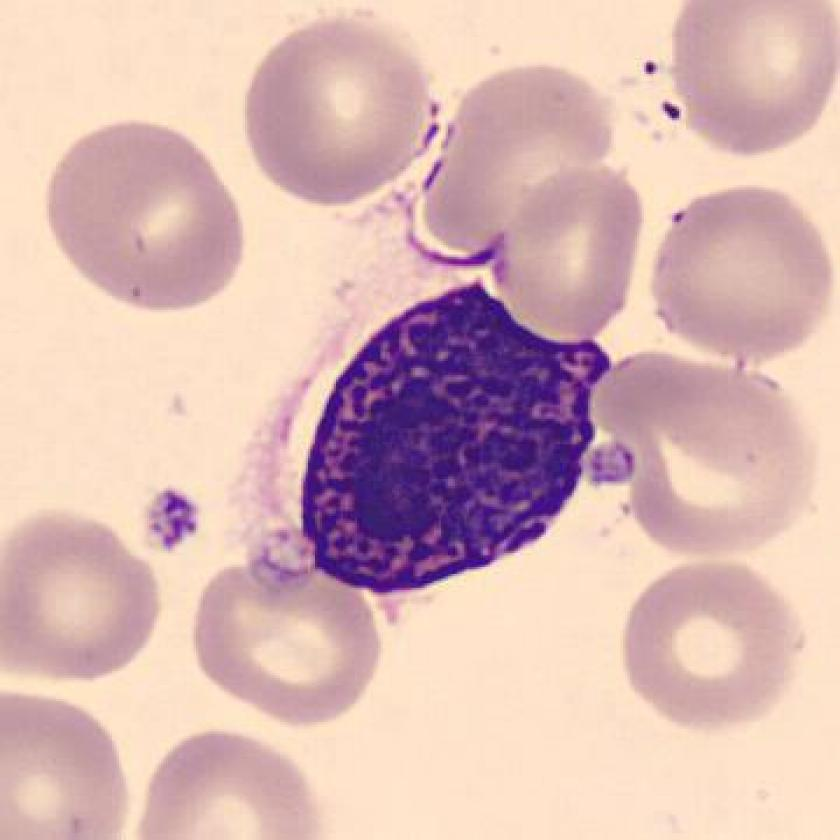basophil: (291, 279, 606, 593)
